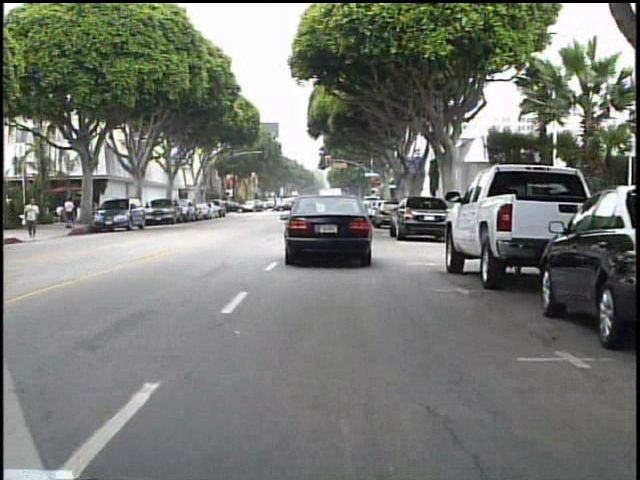person: (25, 195, 48, 245), (65, 195, 82, 230), (218, 196, 234, 220), (280, 193, 282, 217)
